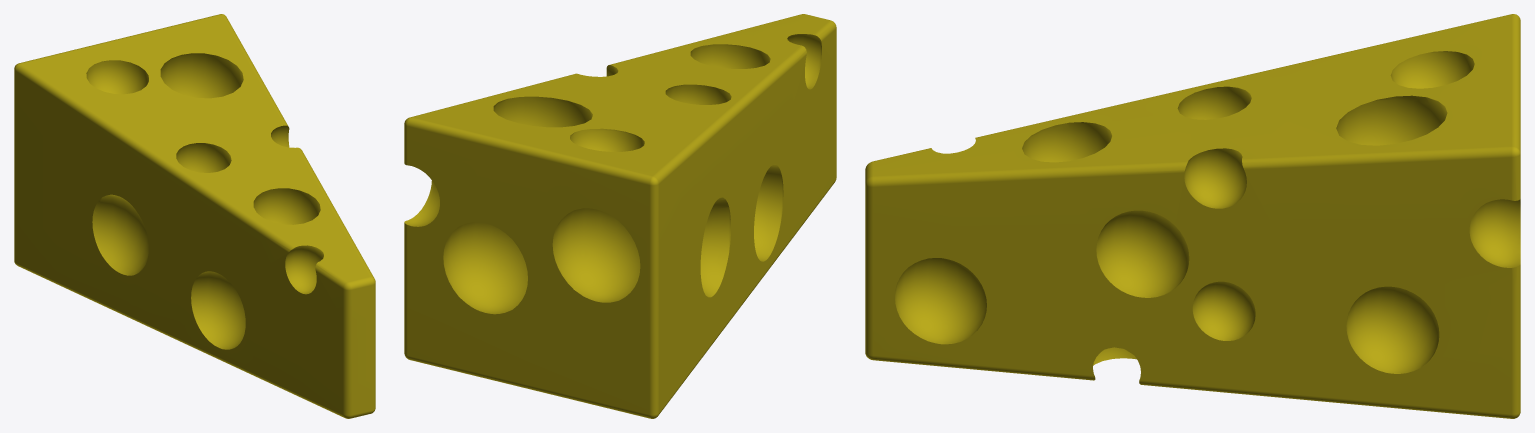
The model's file is cheese.fbx.
3 views of the same model, side by side, from view 1: azimuth 30°, elevation 25°; view 2: azimuth 150°, elevation 25°; view 3: azimuth 270°, elevation 25° (orthographic). The views are drawn at different scales.
Parts seen in each view (by area): view 1: Cheese; view 2: Cheese; view 3: Cheese.
Part boxes in pixels (box(x1,y1,x2,y2)): Cheese: box(14, 14, 375, 418); Cheese: box(404, 14, 836, 418); Cheese: box(865, 14, 1520, 418).
Bounding box in the file's own units: 0.6041 × 0.5521 × 1.21.
